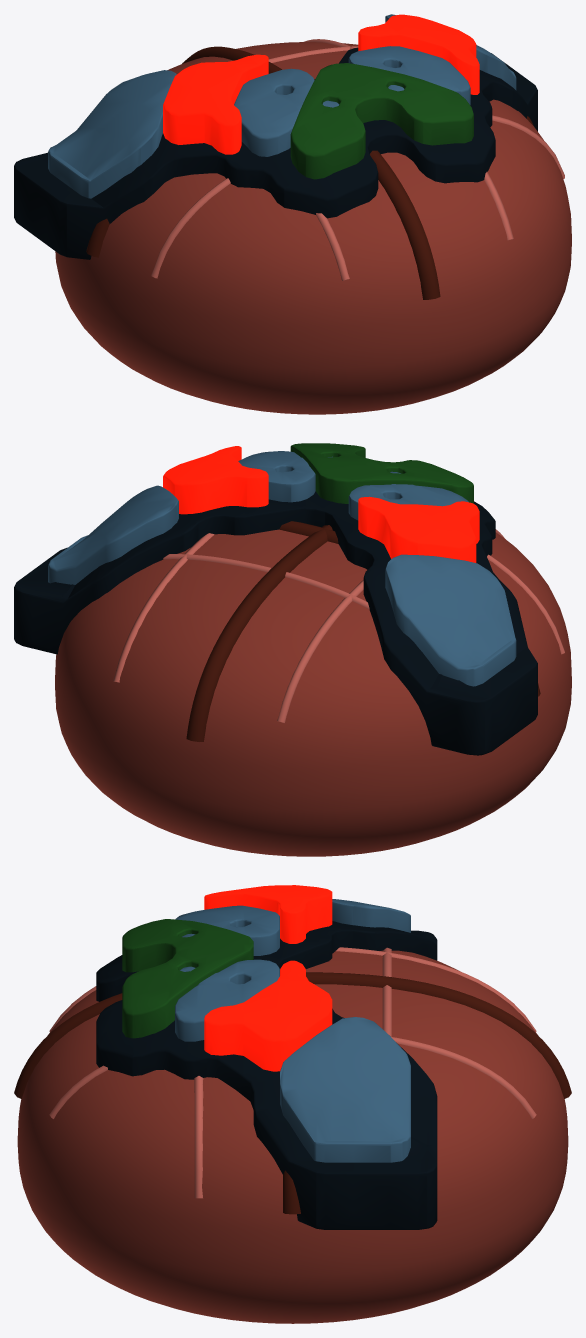
Rendered from pu_heavy_missile_rear.glb.
3 renders of one model, top to bottom at view 1: azimuth 30°, elevation 25°; view 2: azimuth 150°, elevation 25°; view 3: azimuth 270°, elevation 25°, orthographic. The views are drawn at different scales.
Parts seen in each view (by area): view 1: orb, wings_base, wings, body, launchers, orb_groove_4, orb_seam_4; view 2: orb, wings_base, wings, launchers, body, orb_groove_4, orb_seam_4; view 3: orb, wings_base, wings, launchers, body, orb_groove_4, orb_seam_4.
Boxes of the visible parts, x1,y1,x2,y2 form: orb: (55, 42, 571, 414); wings_base: (14, 47, 537, 259); wings: (48, 14, 516, 198); body: (290, 63, 473, 179); launchers: (163, 14, 479, 154); orb_groove_4: (86, 46, 533, 299); orb_seam_4: (151, 39, 564, 280); orb: (55, 529, 571, 856); wings_base: (14, 491, 537, 755); wings: (48, 451, 516, 686); launchers: (163, 446, 479, 562); body: (290, 443, 473, 503); orb_groove_4: (186, 521, 540, 741); orb_seam_4: (113, 529, 564, 722); orb: (17, 950, 568, 1323); wings_base: (96, 921, 437, 1229); wings: (175, 899, 410, 1162); launchers: (204, 885, 332, 1071); body: (122, 919, 253, 1038); orb_groove_4: (14, 972, 571, 1214); orb_seam_4: (49, 947, 536, 1198).
Size of the model in its own units: 22 by 13.93 by 21.27.
